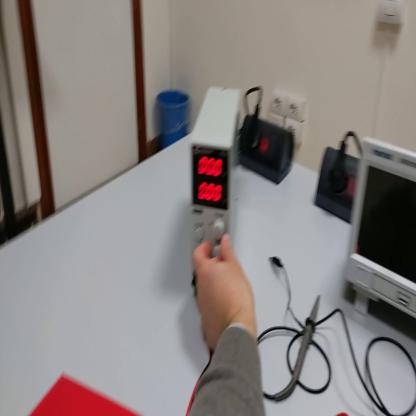hand: (193, 234, 257, 353)
oscilloscope: (346, 131, 416, 332)
oscilloscope probe tip: (275, 295, 323, 406)
power supply: (184, 78, 245, 292)
register: (29, 375, 147, 416)
socket: (239, 115, 298, 189), (311, 147, 360, 227)
